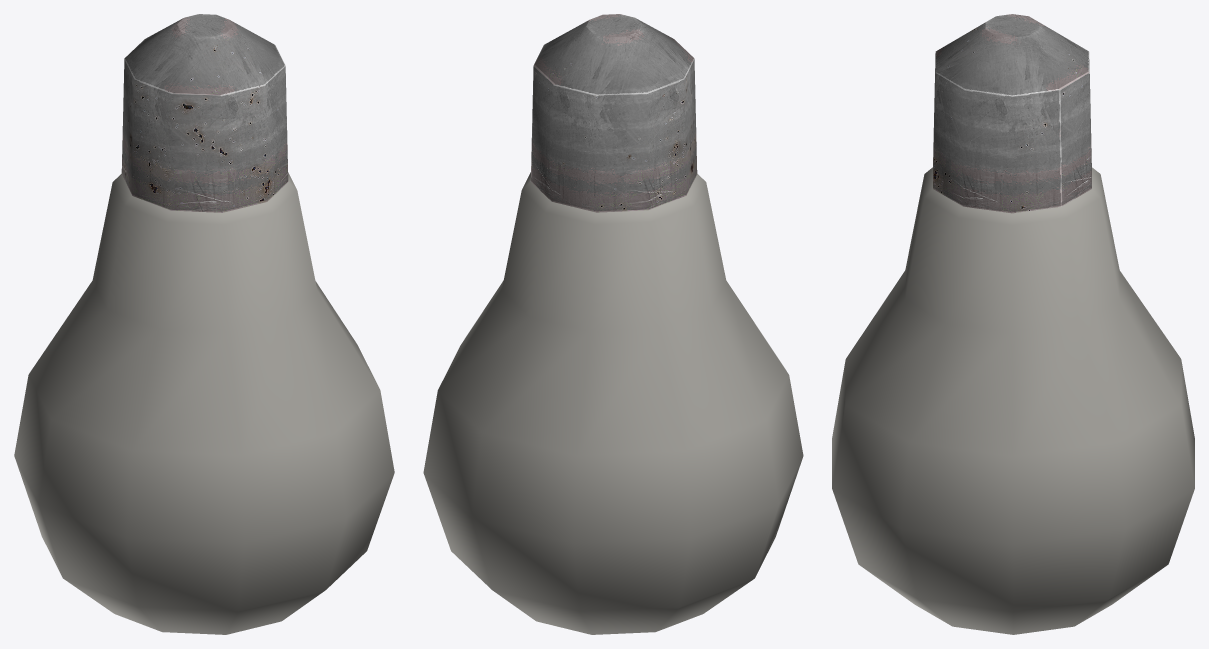
File: Chandelier01_add01.FBX
The picture shows the model from 3 angles, left to right: view 1: azimuth 30°, elevation 25°; view 2: azimuth 150°, elevation 25°; view 3: azimuth 270°, elevation 25°; orthographic projection.
Visible parts, largest first — view 1: Chandelier01_add01_LOD0; view 2: Chandelier01_add01_LOD0; view 3: Chandelier01_add01_LOD0.
Boxes of the visible parts, bbox=[...] form: Chandelier01_add01_LOD0: bbox=[14, 14, 394, 634]; Chandelier01_add01_LOD0: bbox=[423, 14, 803, 634]; Chandelier01_add01_LOD0: bbox=[832, 14, 1194, 634].
Size of the model in its own units: 5.2 by 4.94 by 8.78.
